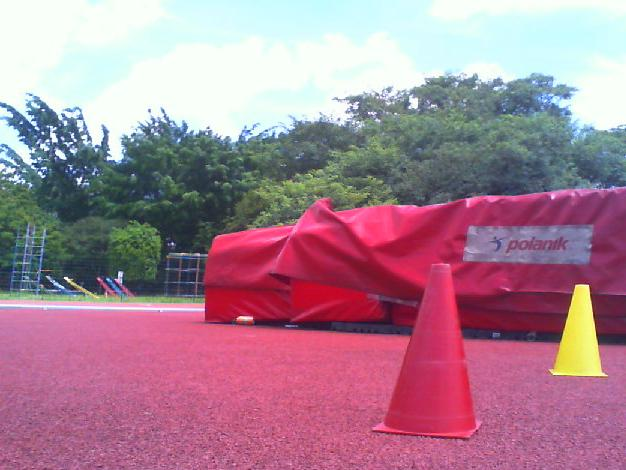0 cone: (373, 263, 483, 439), (549, 285, 608, 377)
